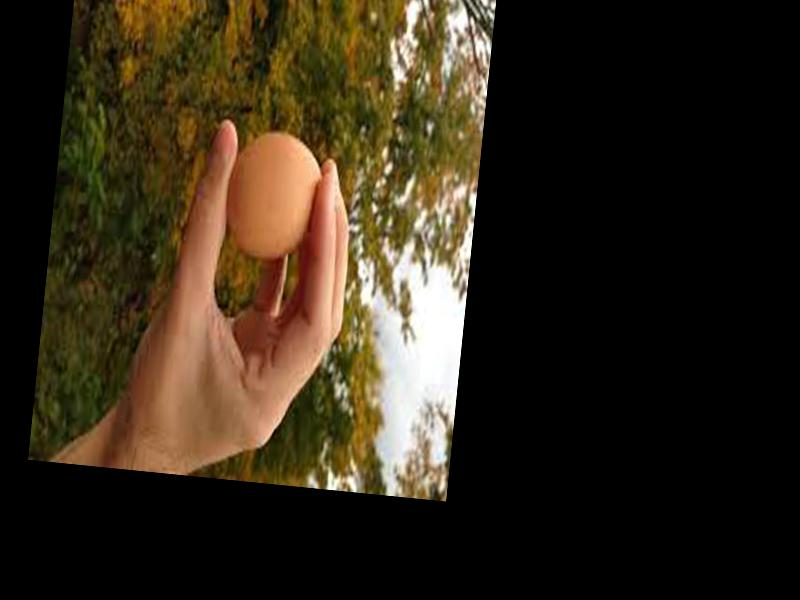Eggs: (221, 128, 327, 261)
